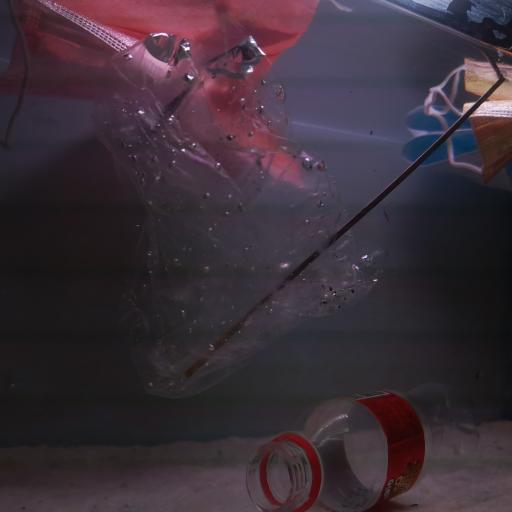mask: (0, 2, 323, 215), (425, 52, 512, 185), (397, 94, 480, 187)
plastic_bag: (78, 23, 382, 403)
plastic_bottle: (243, 391, 474, 512)
